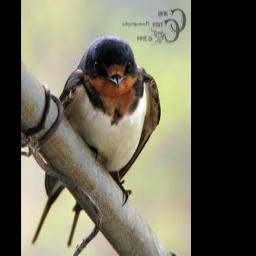Swallow: (31, 35, 161, 245)
